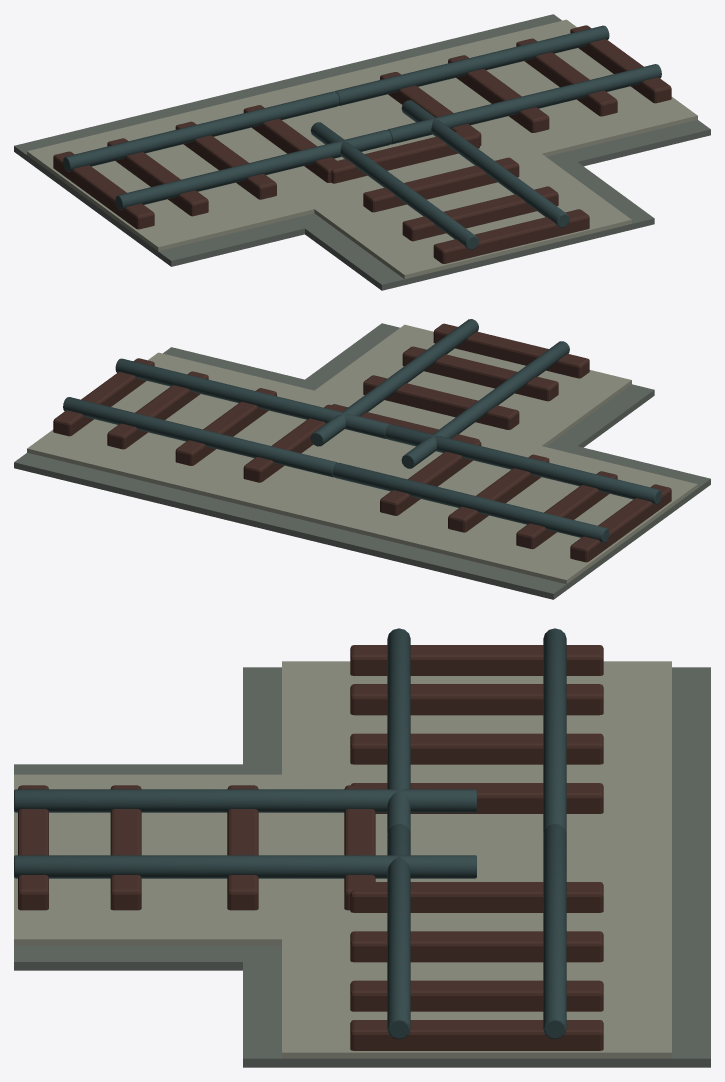
The model's file is tram_tee.glb.
3 views of the same model, one above another, from view 1: azimuth 30°, elevation 25°; view 2: azimuth 150°, elevation 25°; view 3: azimuth 270°, elevation 25° (orthographic). The views are drawn at different scales.
Visible parts, largest first — view 1: tram_tee · stone, tram_tee · wood, tram_tee · metal, tram_tee · stone_dark; view 2: tram_tee · stone, tram_tee · wood, tram_tee · metal, tram_tee · stone_dark; view 3: tram_tee · stone, tram_tee · wood, tram_tee · metal, tram_tee · stone_dark.
Part boxes in pixels (x1,y1,x2,y2): tram_tee · stone: (27, 19, 697, 279); tram_tee · wood: (53, 25, 671, 263); tram_tee · metal: (63, 25, 661, 249); tram_tee · stone_dark: (14, 14, 710, 290); tram_tee · stone: (27, 324, 697, 584); tram_tee · wood: (53, 323, 671, 562); tram_tee · metal: (63, 319, 661, 543); tram_tee · stone_dark: (14, 323, 710, 599); tram_tee · stone: (14, 661, 671, 1058); tram_tee · wood: (18, 645, 603, 1050); tram_tee · metal: (14, 628, 566, 1039); tram_tee · stone_dark: (14, 667, 710, 1067).
Size of the model in its own units: 0.95 by 0.055 by 0.715.
